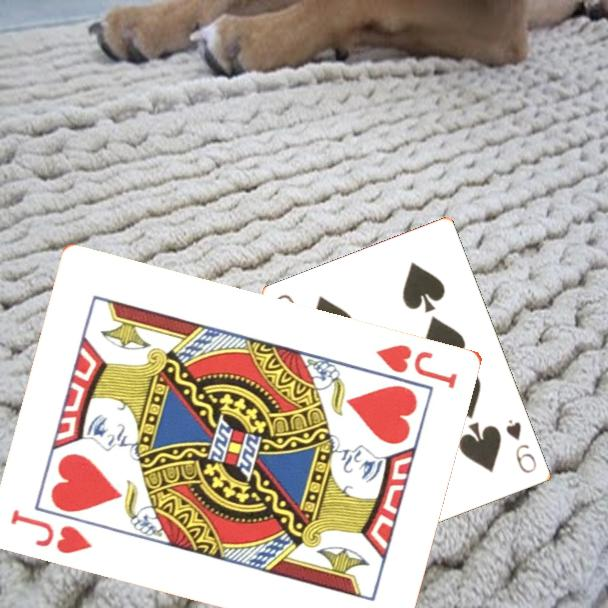h11: (372, 340, 461, 392), (7, 505, 95, 557)
s09: (503, 416, 540, 476)
